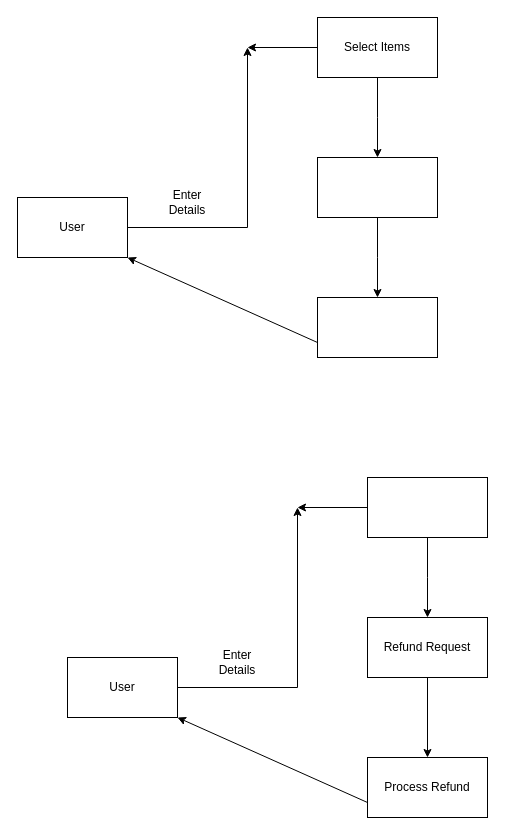
Image size: 505x835. Some labels were removed from this diagram. Each missing label, with the box of its shape:
Purchase: (316, 156, 438, 218)
Select Refund: (366, 476, 488, 538)
View Confirmation: (316, 296, 438, 358)
